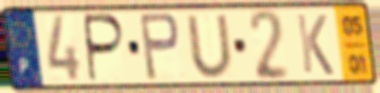2: (247, 5, 292, 86)
4: (44, 13, 85, 84)
K: (294, 12, 336, 78)
P: (137, 11, 183, 84), (83, 12, 128, 85)
U: (184, 12, 237, 81)
